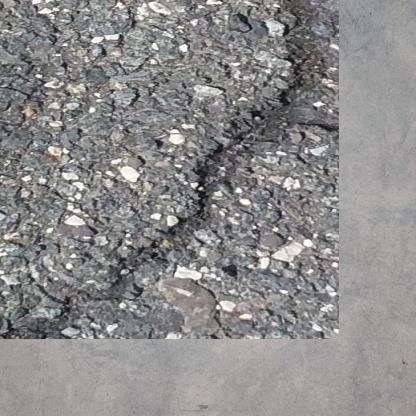Cracks: (6, 0, 313, 313)
